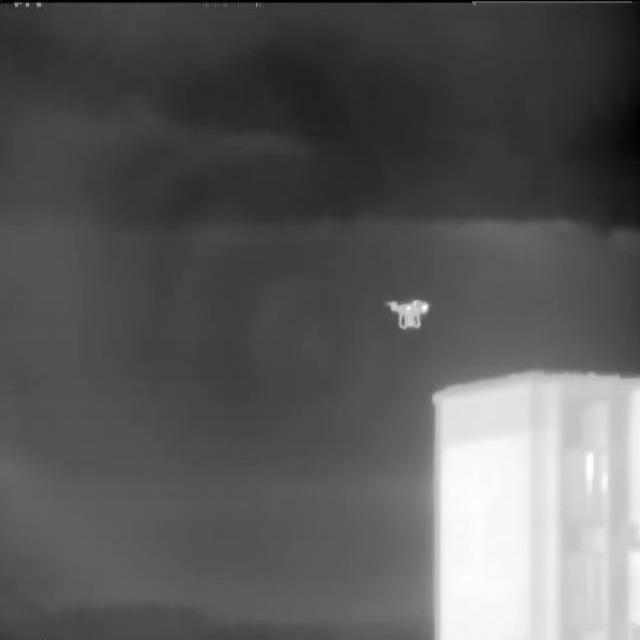DRONE: (384, 297, 434, 332)
